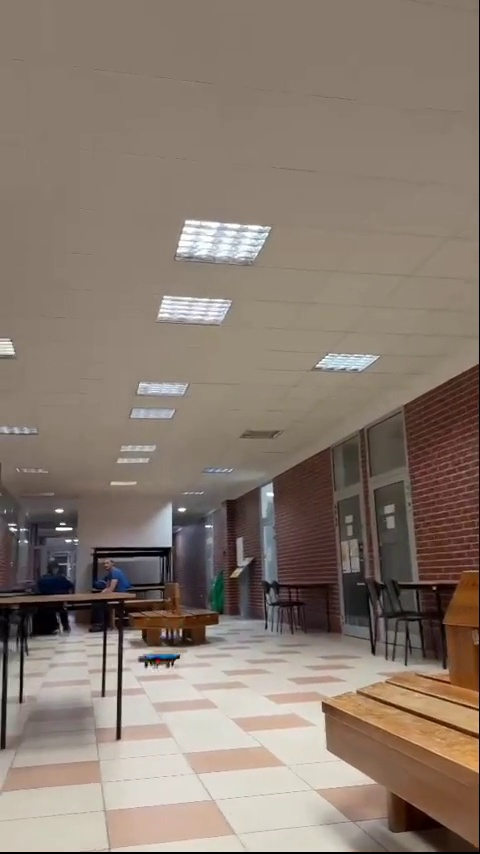drone: (141, 653, 181, 670)
no vest: (92, 554, 132, 610), (29, 557, 68, 610)
